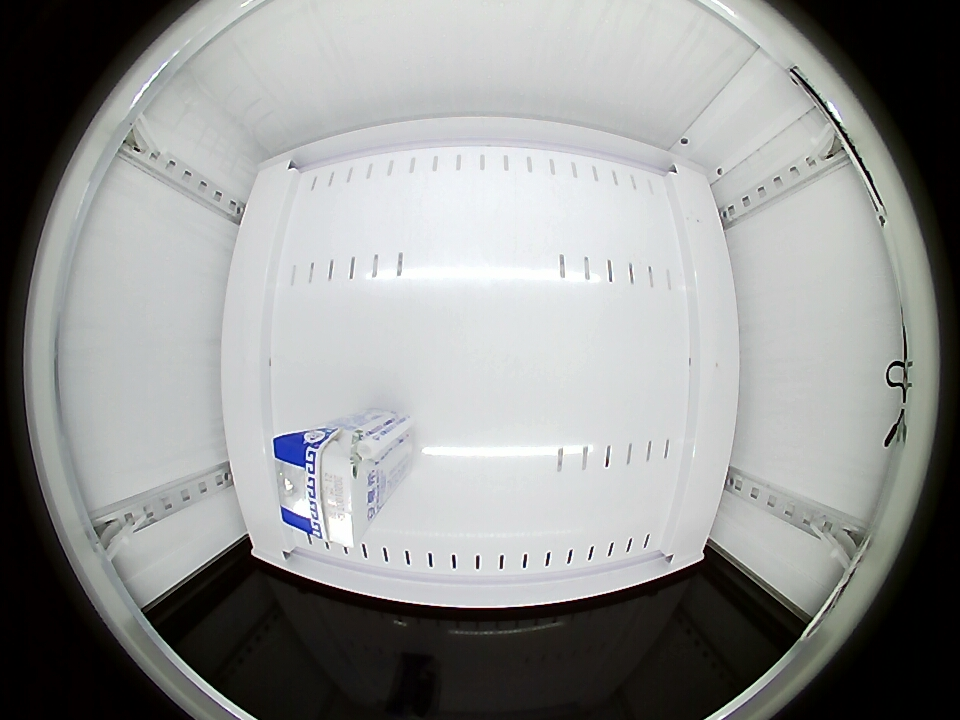anmuxi: (275, 426, 378, 549)
